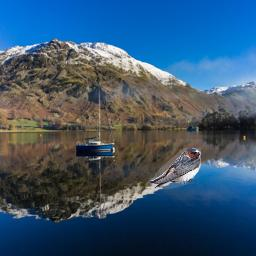Swallow: (150, 148, 201, 189)
